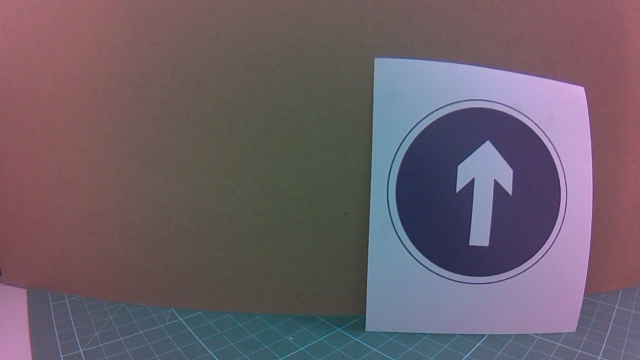forward: (376, 99, 572, 305)
